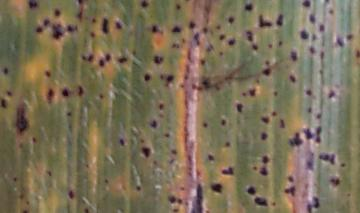tarspot: (188, 183, 209, 213), (14, 102, 28, 138), (49, 21, 65, 41), (317, 151, 337, 166), (257, 12, 273, 30), (303, 149, 315, 171), (73, 1, 84, 24), (306, 195, 320, 213), (288, 130, 301, 148), (100, 16, 111, 37), (139, 145, 153, 160), (253, 195, 268, 208), (220, 164, 235, 177), (282, 185, 297, 198), (301, 126, 314, 141), (45, 87, 55, 105), (208, 182, 224, 193), (78, 53, 94, 64), (191, 31, 201, 48), (333, 35, 345, 49), (204, 150, 216, 163), (152, 53, 164, 66), (243, 29, 255, 42), (164, 74, 174, 89), (65, 24, 78, 35), (289, 48, 299, 62), (275, 12, 283, 29), (75, 83, 84, 98), (328, 176, 340, 187), (40, 16, 51, 28), (315, 124, 321, 146), (260, 67, 273, 77), (235, 101, 244, 115), (112, 19, 123, 30), (243, 2, 254, 13), (33, 25, 45, 35), (167, 193, 177, 205), (26, 1, 39, 10), (246, 185, 256, 196), (258, 165, 268, 176), (260, 153, 270, 164), (60, 87, 70, 98), (299, 29, 309, 40), (258, 115, 268, 126), (247, 88, 258, 98), (204, 43, 215, 53), (116, 56, 128, 65), (201, 78, 210, 90), (318, 22, 326, 35), (148, 119, 158, 129), (52, 7, 62, 17), (171, 25, 181, 35), (149, 24, 159, 34), (5, 87, 14, 98), (97, 58, 106, 69), (326, 90, 337, 99), (157, 102, 166, 113), (307, 45, 316, 56), (142, 71, 150, 83), (1, 98, 8, 111), (308, 12, 315, 25), (43, 69, 52, 79), (201, 120, 210, 130), (226, 15, 235, 25), (227, 37, 236, 47), (278, 118, 286, 129), (200, 25, 209, 34), (170, 41, 179, 50), (213, 23, 222, 32), (117, 137, 125, 147), (2, 66, 10, 76), (300, 1, 310, 9), (271, 88, 279, 98), (314, 112, 324, 120), (318, 50, 326, 60), (46, 168, 53, 179), (139, 1, 148, 9), (286, 174, 294, 183), (187, 20, 196, 28), (217, 33, 226, 41), (168, 147, 176, 156), (260, 131, 267, 141), (288, 74, 295, 84), (355, 47, 360, 61), (67, 189, 74, 199), (190, 83, 197, 93), (220, 116, 226, 127), (97, 92, 105, 100), (88, 31, 96, 39), (88, 17, 96, 25), (304, 88, 312, 96), (250, 42, 258, 50), (276, 39, 284, 47), (162, 130, 170, 138), (250, 164, 258, 172), (134, 184, 142, 192), (102, 177, 110, 185), (104, 53, 111, 62), (174, 2, 181, 11), (270, 109, 277, 118), (344, 33, 353, 40), (11, 175, 18, 184), (270, 199, 277, 207), (199, 58, 206, 66), (266, 42, 274, 49), (345, 190, 352, 198), (84, 161, 91, 169), (224, 140, 230, 149), (306, 105, 312, 114), (177, 196, 183, 205), (241, 90, 247, 99), (157, 72, 163, 81), (30, 136, 37, 143), (65, 110, 72, 117), (327, 8, 334, 15), (339, 162, 347, 168), (253, 78, 261, 84), (264, 59, 270, 66), (171, 207, 178, 213), (195, 84, 201, 91), (217, 50, 224, 56), (18, 192, 24, 199), (83, 205, 88, 213), (183, 74, 188, 82), (24, 199, 30, 205), (179, 83, 185, 89), (139, 138, 145, 144), (20, 209, 28, 213), (322, 1, 331, 3)
